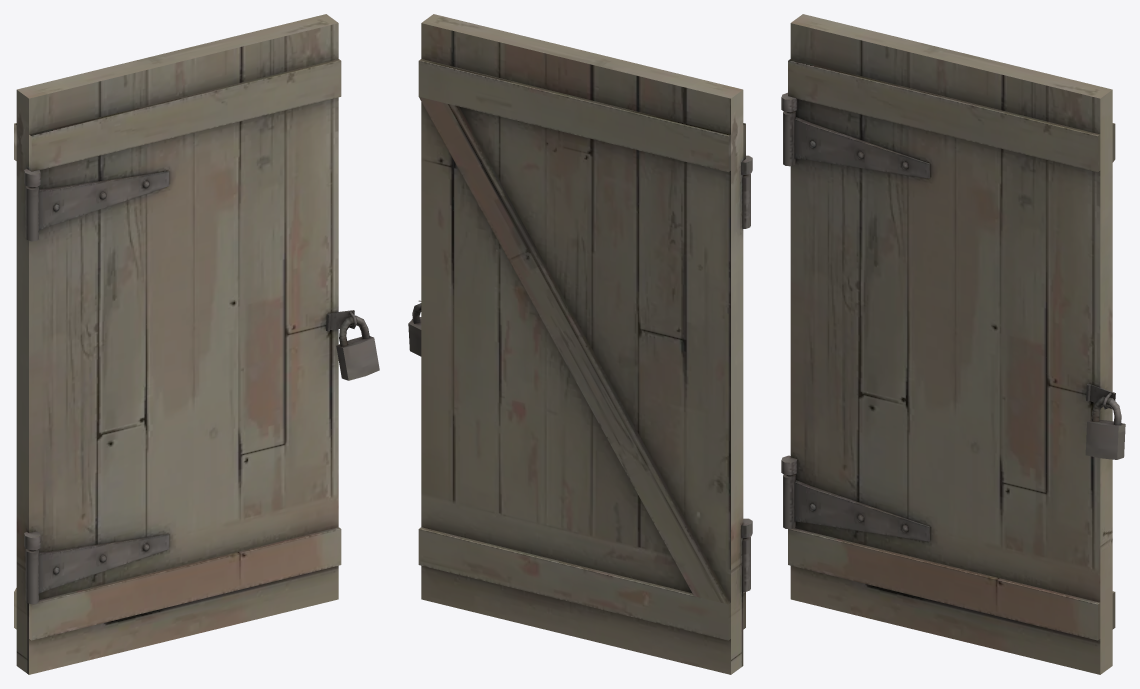
3 views of the same model, side by side, from view 1: azimuth 30°, elevation 25°; view 2: azimuth 150°, elevation 25°; view 3: azimuth 330°, elevation 25° (orthographic).
Visible parts, largest first — view 1: body0_model0_lod0_mesh0; view 2: body0_model0_lod0_mesh0; view 3: body0_model0_lod0_mesh0.
Boxes of the visible parts, x1,y1,x2,y2 form: body0_model0_lod0_mesh0: [14, 14, 379, 674]; body0_model0_lod0_mesh0: [408, 14, 752, 674]; body0_model0_lod0_mesh0: [781, 14, 1125, 674].
Bounding box in the file's own units: 80.12 × 128 × 11.59.
Materials: 1 (1 with a texture image).
